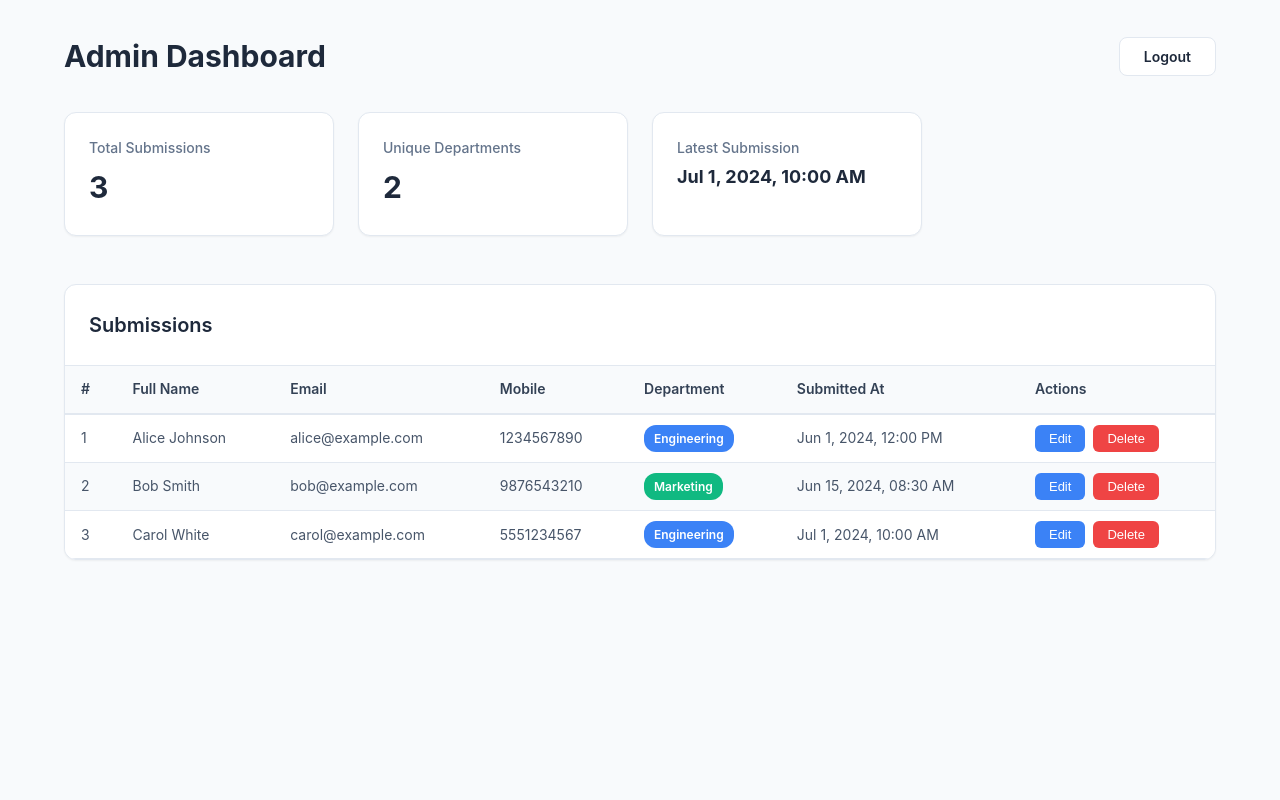
Scenario: AdminDashboard › edit modal › closes edit modal when cancel is clicked
Click the button with aria-label "edit alice johnson": (1060, 438) x1=1035 y1=425 x2=1085 y2=452
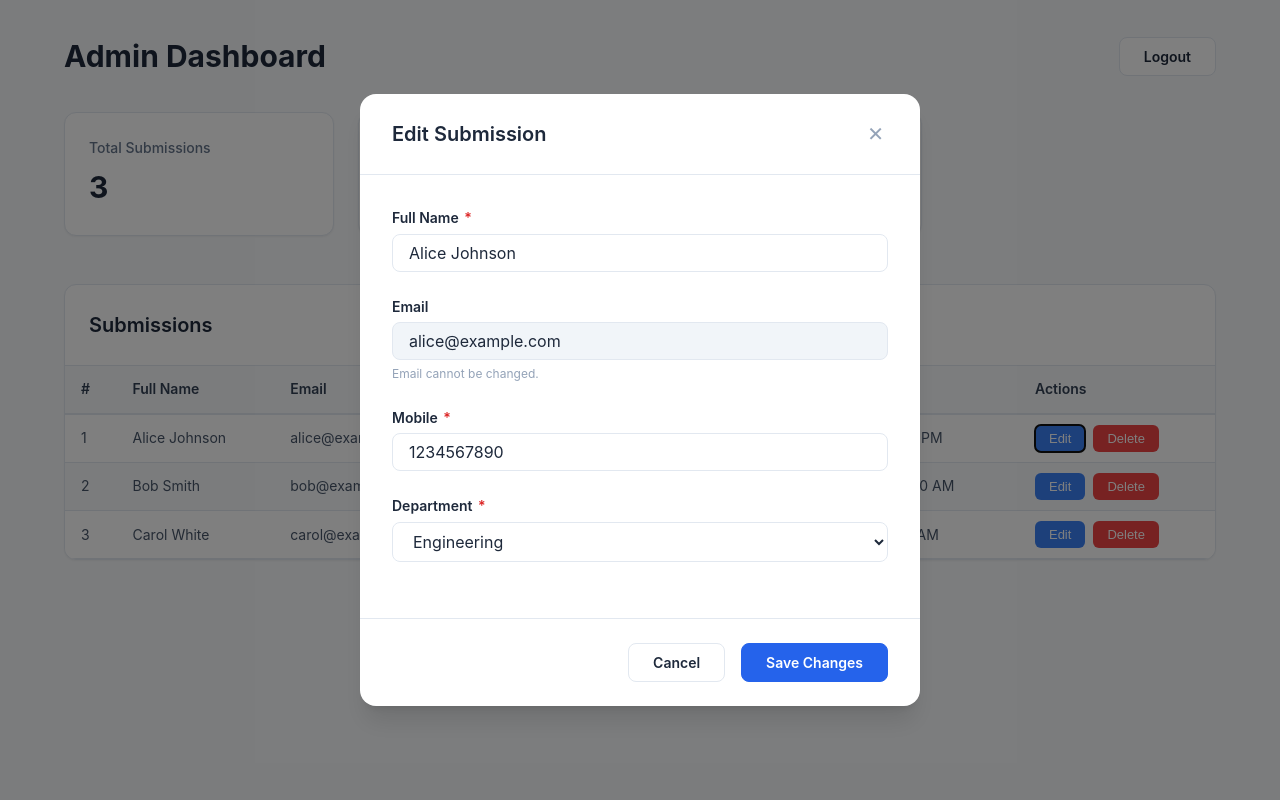
Result: the dialog "Edit Submission" is shown at x1=360 y1=94 x2=920 y2=706
Click the button "Cancel": (677, 662) x1=628 y1=643 x2=725 y2=682
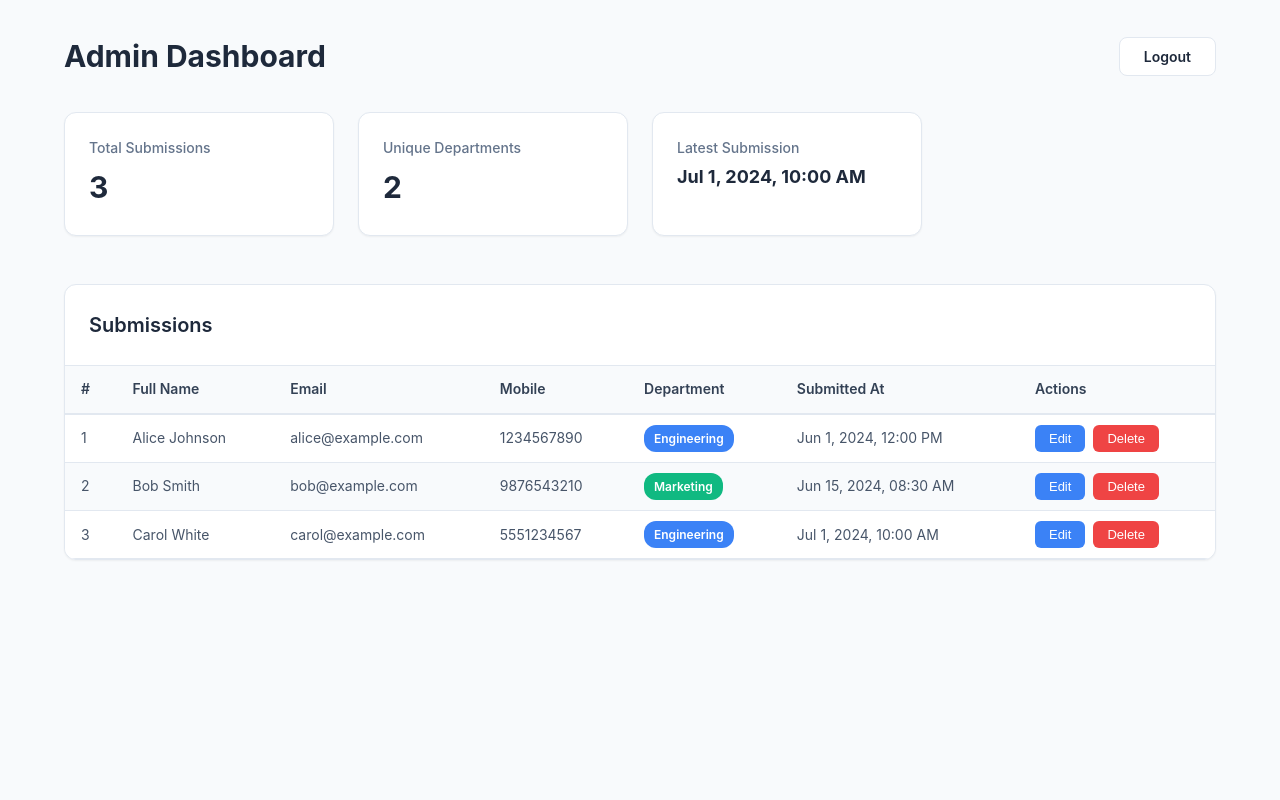
Result: the heading "Edit Submission" is gone
